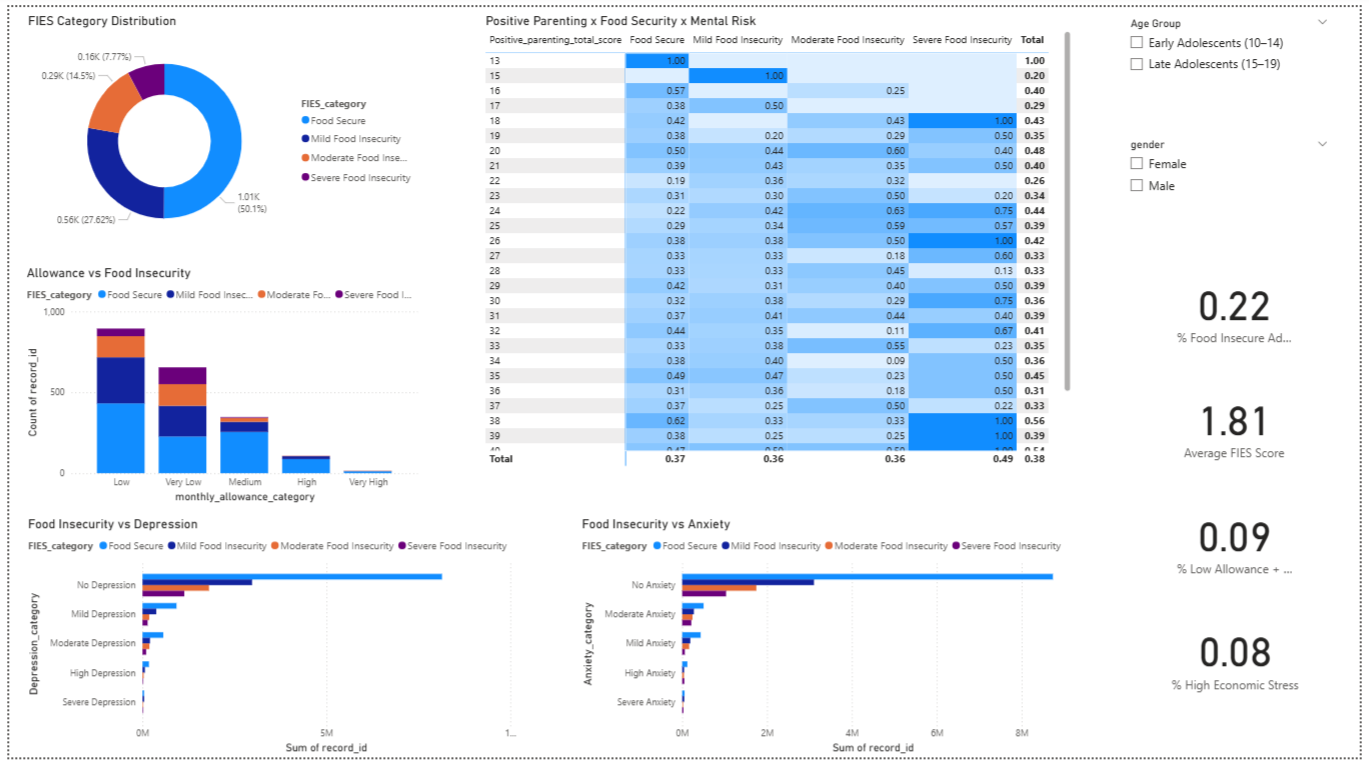

Layout of this report page (visuals, bound fields, positions):
{"tool":"powerbi","page":{"name":"Dashboard 3 — Economic Capacity & Food Security","canvas":[1800,1000],"ordinal":2},"visuals":[{"type":"slicer","fields":{"Values":["FINAL_Clean_Dataset.Age Group"]},"box":[1481.2,7.5,287.5,117.5],"z":0},{"type":"slicer","fields":{"Values":["FINAL_Clean_Dataset.gender"]},"box":[1481.2,170,287.5,117.5],"z":1000},{"type":"donutChart","title":"FIES Category Distribution","fields":{"Category":["FINAL_Clean_Dataset.FIES_category"],"Y":["CountNonNull(FINAL_Clean_Dataset.record_id)"]},"box":[20,8.3,530,321.7],"z":2000},{"type":"columnChart","title":"Allowance vs Food Insecurity","fields":{"Category":["FINAL_Clean_Dataset.monthly_allowance_category"],"Y":["CountNonNull(FINAL_Clean_Dataset.record_id)"],"Series":["FINAL_Clean_Dataset.FIES_category"]},"box":[18.3,343.3,531.7,321.7],"z":3000},{"type":"card","fields":{"Values":["FINAL_Clean_Dataset.% Food Insecure Adolescents"]},"box":[1548.4,324.8,169,154],"z":4000},{"type":"card","fields":{"Values":["FINAL_Clean_Dataset.Average FIES Score"]},"box":[1548.4,478.8,169,154],"z":5000},{"type":"card","fields":{"Values":["FINAL_Clean_Dataset.% Low Allowance + Food Insecure"]},"box":[1549.4,633.5,166.7,153.3],"z":6000},{"type":"card","fields":{"Values":["FINAL_Clean_Dataset.% High Economic Stress"]},"box":[1516.1,786.8,235,155],"z":7000},{"type":"clusteredBarChart","title":"Food Insecurity vs Depression","fields":{"Category":["FINAL_Clean_Dataset.Depression_category"],"Y":["Sum(FINAL_Clean_Dataset.record_id)"],"Series":["FINAL_Clean_Dataset.FIES_category"]},"box":[20,678,662,322],"z":8000},{"type":"clusteredBarChart","title":"Food Insecurity vs Anxiety","fields":{"Category":["FINAL_Clean_Dataset.Anxiety_category"],"Y":["Sum(FINAL_Clean_Dataset.record_id)"],"Series":["FINAL_Clean_Dataset.FIES_category"]},"box":[758,678,662,322],"z":9000},{"type":"pivotTable","title":"Positive Parenting x Food Security x Mental Risk","fields":{"Rows":["FINAL_Clean_Dataset.Positive_parenting_total_score"],"Columns":["FINAL_Clean_Dataset.FIES_category"],"Values":["FINAL_Clean_Dataset.% High Risk"]},"box":[630,8,790,608],"z":10000}]}

Visuals, with their boxes in screenshot pixels (x1, y1, x2, y2), scaled from the page's 1800x1000 canvas onto the 1369x766 screenshot:
slicer - FINAL_Clean_Dataset.Age Group: 1127:6:1345:96
slicer - FINAL_Clean_Dataset.gender: 1127:130:1345:220
"FIES Category Distribution" donutChart: 15:6:418:253
"Allowance vs Food Insecurity" columnChart: 14:263:418:509
card - FINAL_Clean_Dataset.% Food Insecure Adolescents: 1178:249:1306:367
card - FINAL_Clean_Dataset.Average FIES Score: 1178:367:1306:485
card - FINAL_Clean_Dataset.% Low Allowance + Food Insecure: 1178:485:1305:603
card - FINAL_Clean_Dataset.% High Economic Stress: 1153:603:1332:721
"Food Insecurity vs Depression" clusteredBarChart: 15:519:519:765
"Food Insecurity vs Anxiety" clusteredBarChart: 577:519:1080:765
"Positive Parenting x Food Security x Mental Risk" pivotTable: 479:6:1080:472
